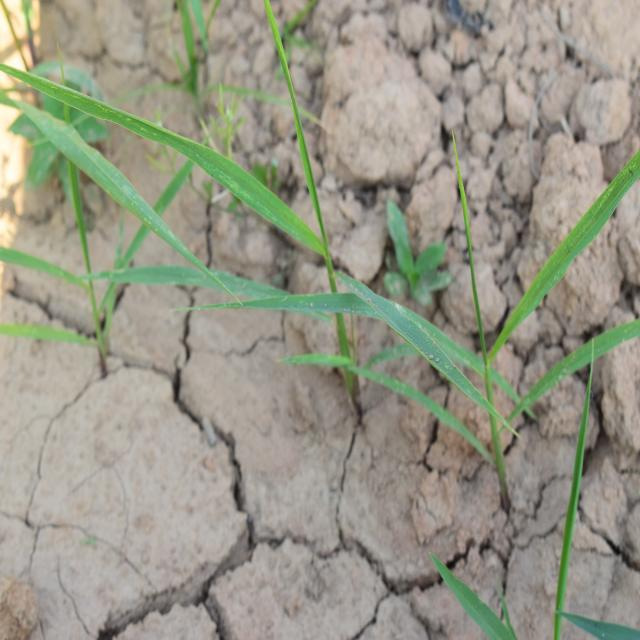green_foxtail: (185, 23, 426, 405), (412, 142, 625, 472), (3, 68, 211, 355)
